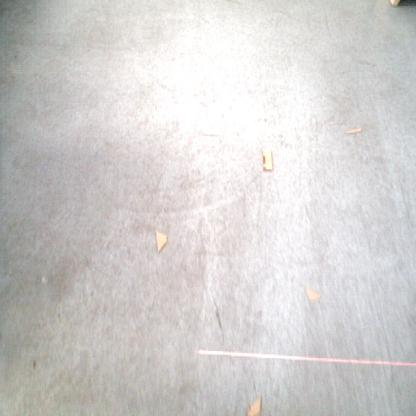dirty: (302, 284, 323, 304), (246, 392, 262, 416), (154, 228, 168, 254), (260, 149, 274, 172), (344, 126, 363, 136)
mark: (212, 301, 224, 333), (30, 358, 38, 372), (225, 1, 242, 5)
